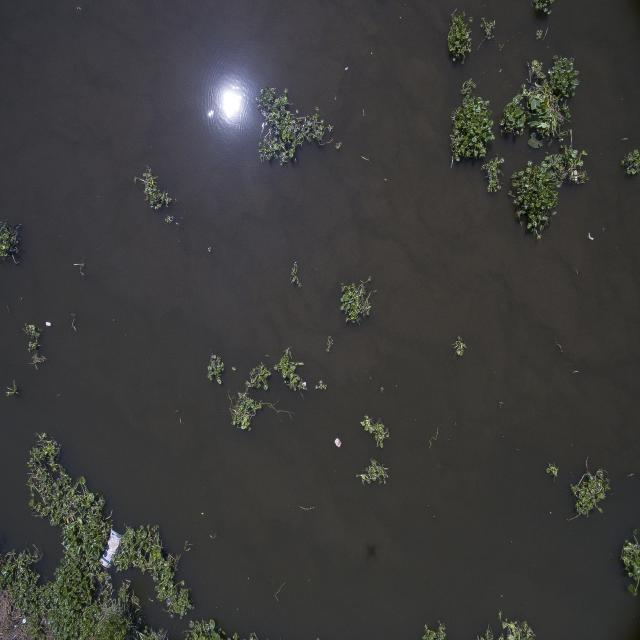plastic: (95, 530, 127, 571), (330, 432, 350, 456), (297, 376, 311, 394), (44, 321, 54, 330)
